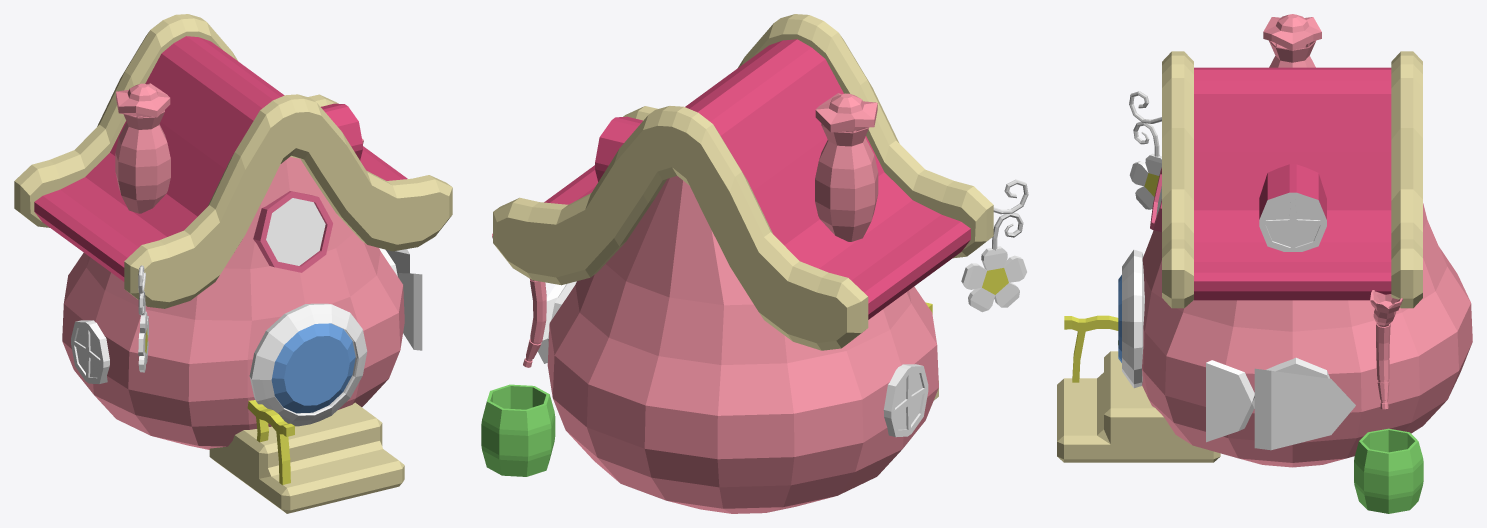
File: nyusha_house.glb
The picture shows the model from 3 angles, left to right: view 1: azimuth 30°, elevation 25°; view 2: azimuth 150°, elevation 25°; view 3: azimuth 270°, elevation 25°; orthographic projection. The views are drawn at different scales.
Visible parts, largest first — view 1: Cube, Cylinder, Cube.002, Cylinder.002, Cylinder.001, Cylinder.006, Cube.001, Cube.004, Cylinder.005, Cube.003, Cylinder.007; view 2: Cylinder, Cube, Cylinder.001, Cylinder.009, Cylinder.007, Cube.001, Cube.003, Cylinder.008, Cylinder.004; view 3: Cube, Cylinder, Cube.002, Cylinder.004, Cylinder.009, Cube.003, Cylinder.002, Cylinder.005, Cylinder.001, Cylinder.008, Cube.004, Cylinder.007 (+2 smaller).
Part boxes in pixels (x1,y1,x2,y2): Cube: [14, 14, 452, 308]; Cylinder: [62, 157, 404, 449]; Cube.002: [209, 402, 404, 513]; Cylinder.002: [249, 303, 367, 426]; Cylinder.001: [115, 83, 170, 213]; Cylinder.006: [253, 191, 332, 272]; Cube.001: [71, 320, 109, 384]; Cube.004: [247, 400, 294, 485]; Cylinder.005: [398, 273, 422, 350]; Cube.003: [321, 103, 362, 160]; Cylinder.007: [138, 311, 148, 372]; Cylinder: [547, 176, 938, 513]; Cube: [493, 14, 993, 350]; Cylinder.001: [815, 93, 878, 241]; Cylinder.009: [481, 384, 555, 476]; Cylinder.007: [961, 246, 1026, 312]; Cube.001: [883, 364, 928, 437]; Cube.003: [595, 116, 642, 181]; Cylinder.008: [492, 233, 546, 367]; Cylinder.004: [537, 284, 566, 363]; Cube: [1162, 51, 1422, 308]; Cylinder: [1142, 203, 1472, 467]; Cube.002: [1057, 351, 1220, 462]; Cylinder.004: [1254, 368, 1355, 450]; Cylinder.009: [1354, 428, 1423, 513]; Cube.003: [1259, 164, 1326, 251]; Cylinder.002: [1118, 249, 1144, 388]; Cylinder.005: [1206, 360, 1254, 442]; Cylinder.001: [1263, 14, 1321, 67]; Cylinder.008: [1370, 290, 1402, 409]; Cube.004: [1064, 315, 1118, 382]; Cylinder.007: [1129, 153, 1161, 209].
Size of the model in its own units: 2.49 by 2.46 by 2.44.
